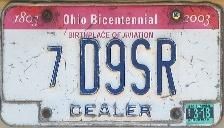7: (45, 45, 64, 89)
9: (105, 36, 128, 95)
D: (78, 36, 102, 97)
R: (153, 37, 180, 97)
S: (128, 37, 152, 97)
